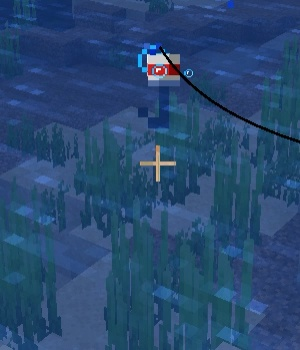up: (138, 49, 184, 130)
